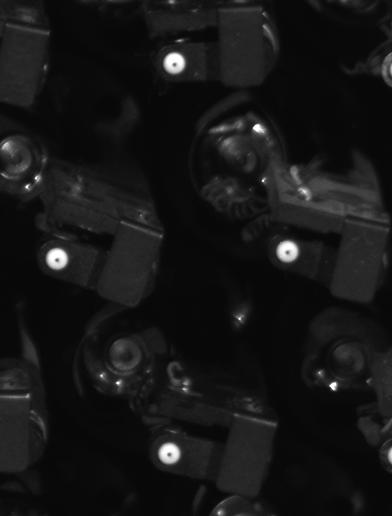fiber: (153, 438, 190, 470), (42, 243, 74, 275), (272, 237, 304, 267), (160, 49, 190, 78)
